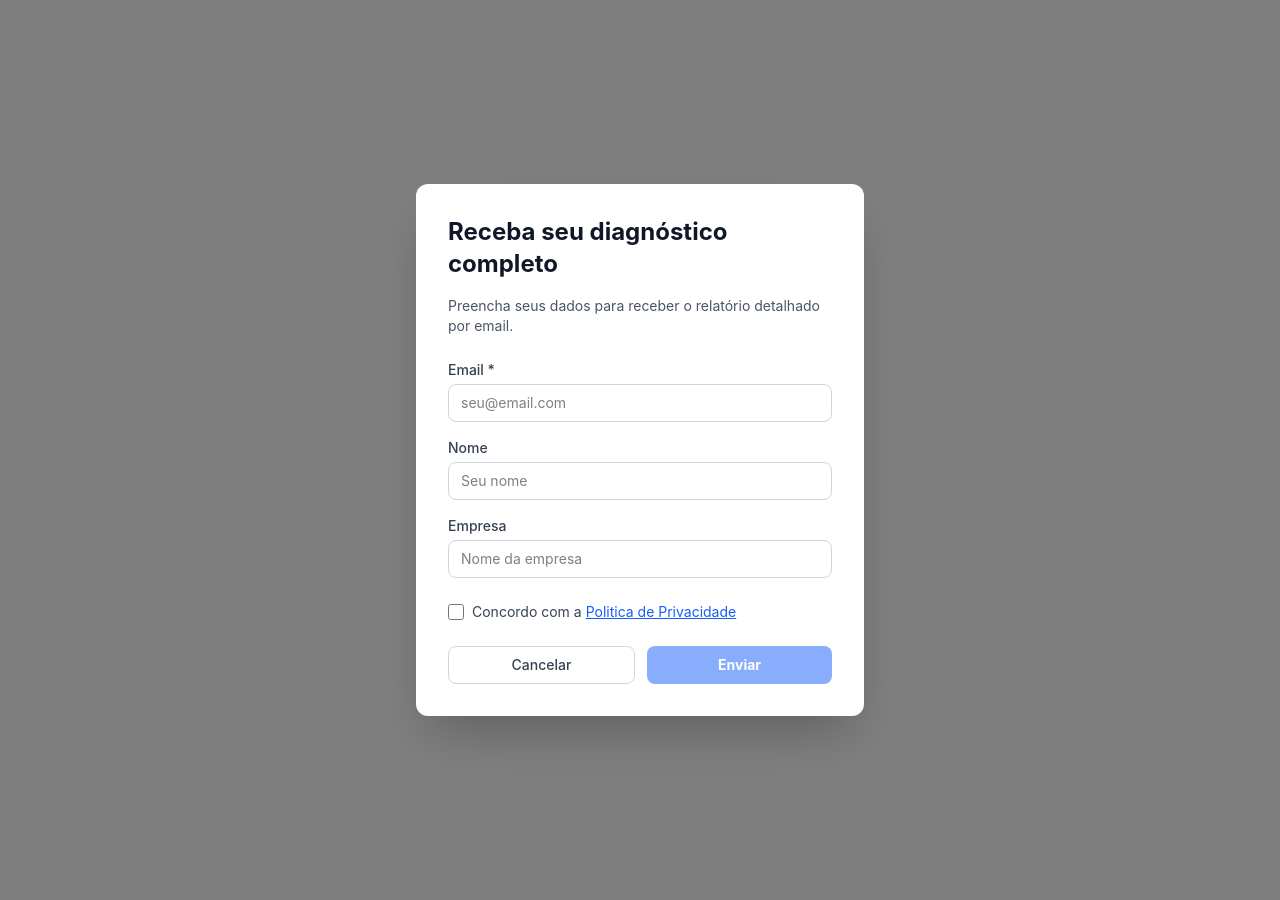
Test: LeadCaptureModal — validation › shows error for empty email on submit
// Enable submit by checking LGPD consent
Click the checkbox at (456, 612), box [448,604,464,620]
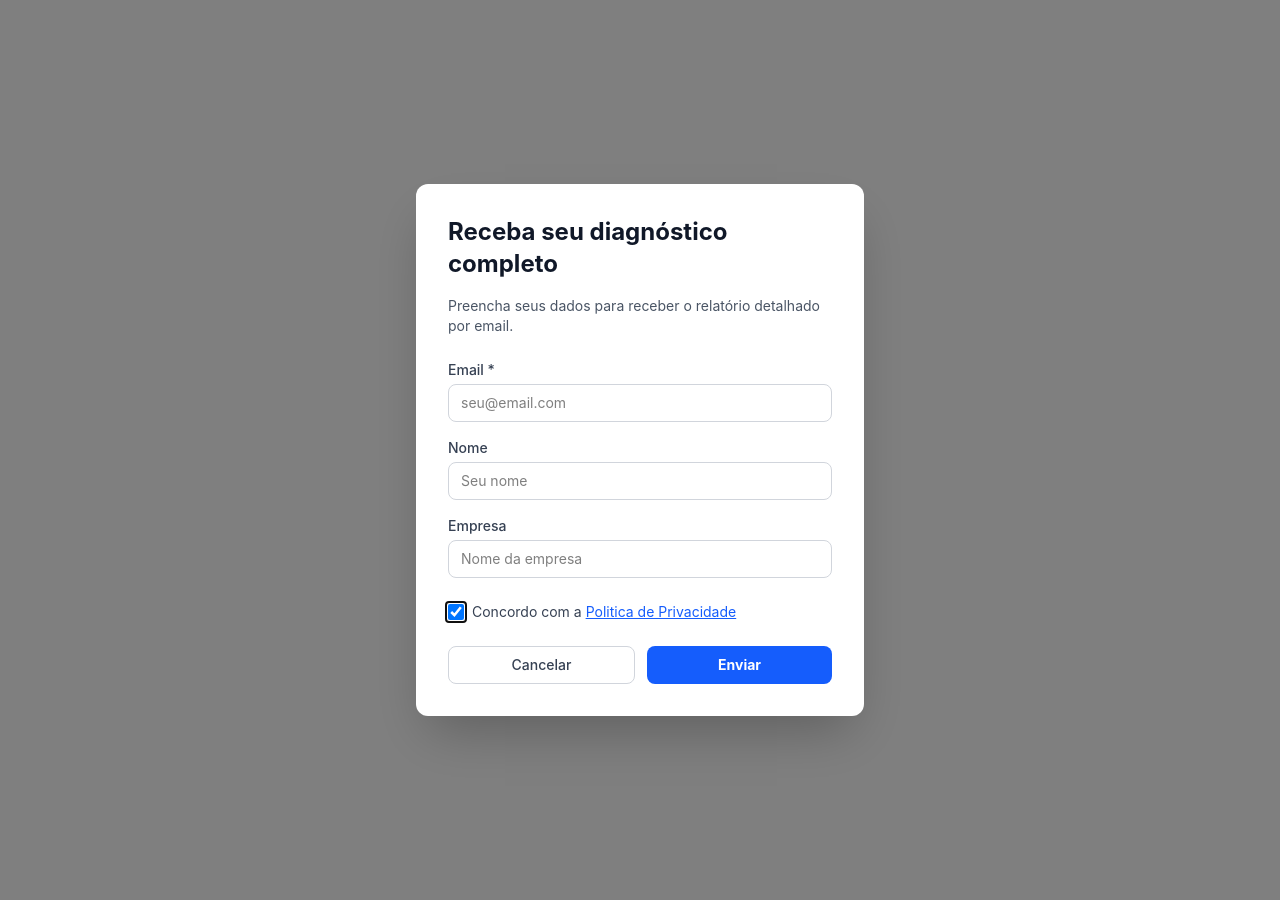
Click the button "Enviar" at (740, 665), box [647,646,832,684]
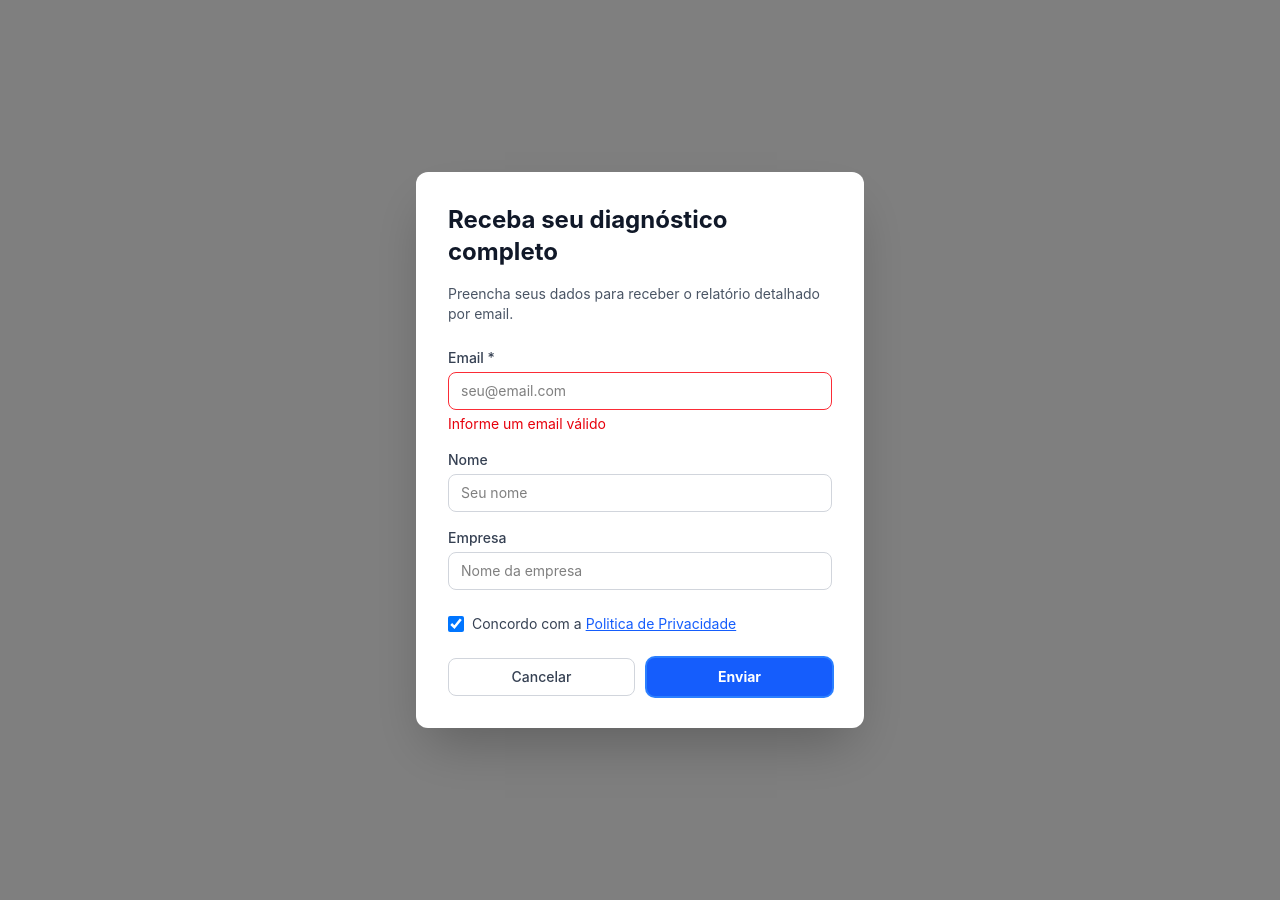
Expected: the text "Informe um email válido" is shown, [448,415,606,432]
